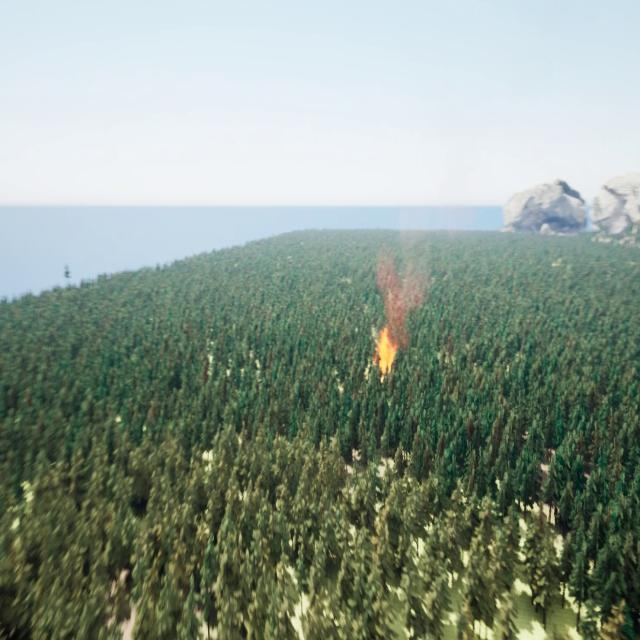fire: (371, 328, 397, 377)
smoke: (372, 242, 418, 351)
